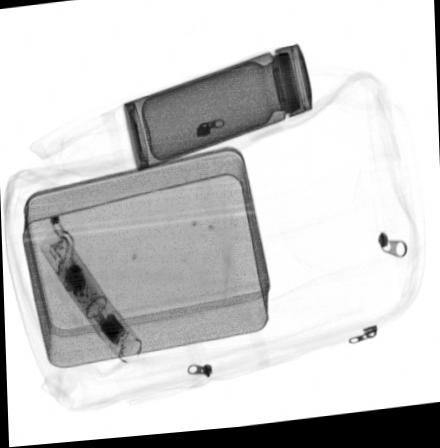Baton: (36, 228, 142, 365)
